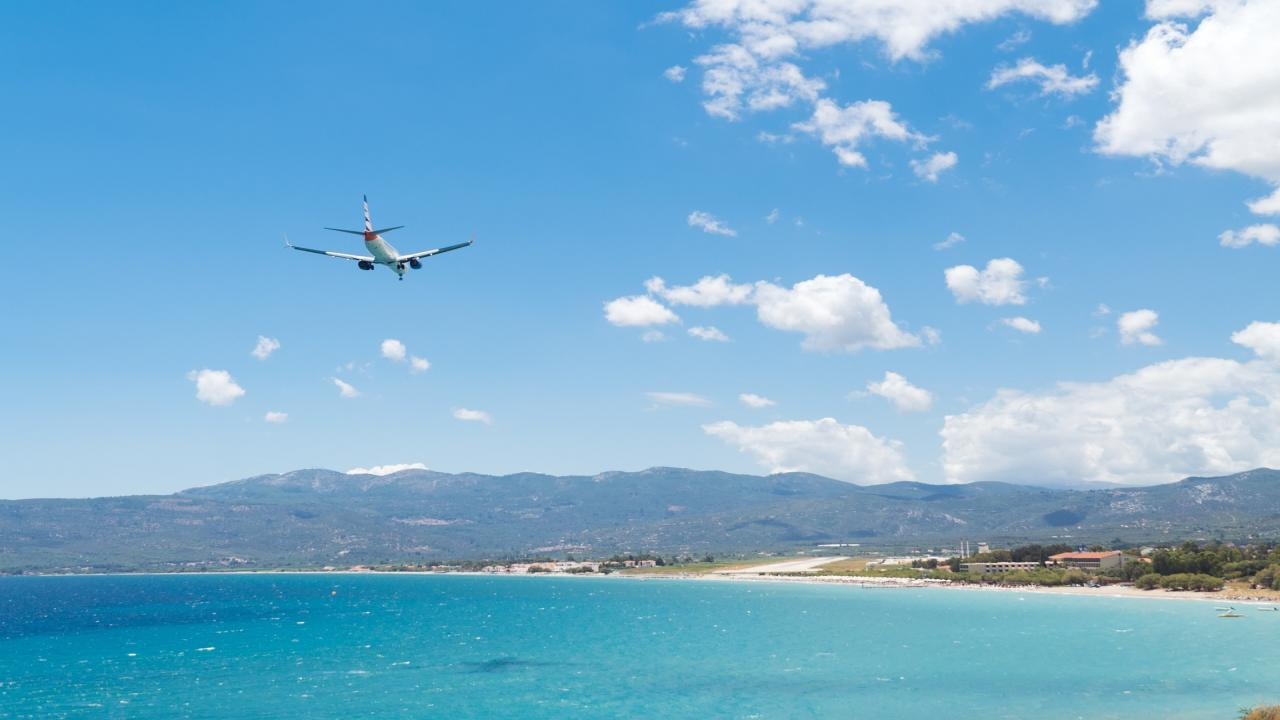Airplane: (278, 184, 479, 286)
